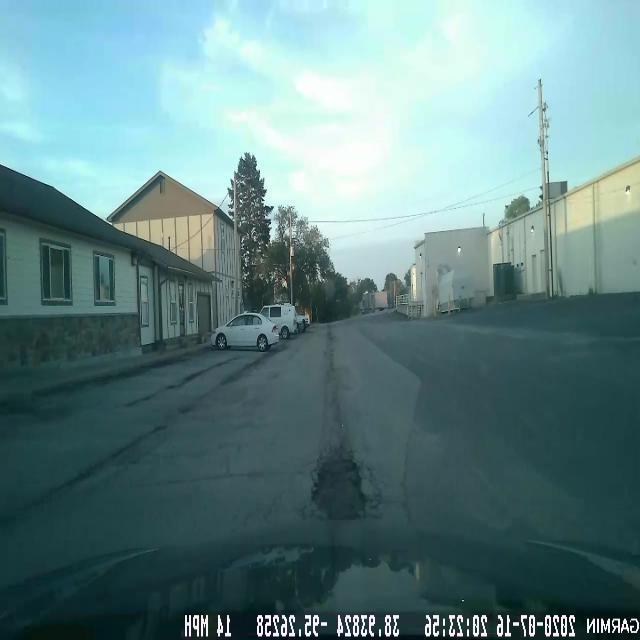pothole: (291, 447, 386, 525)
